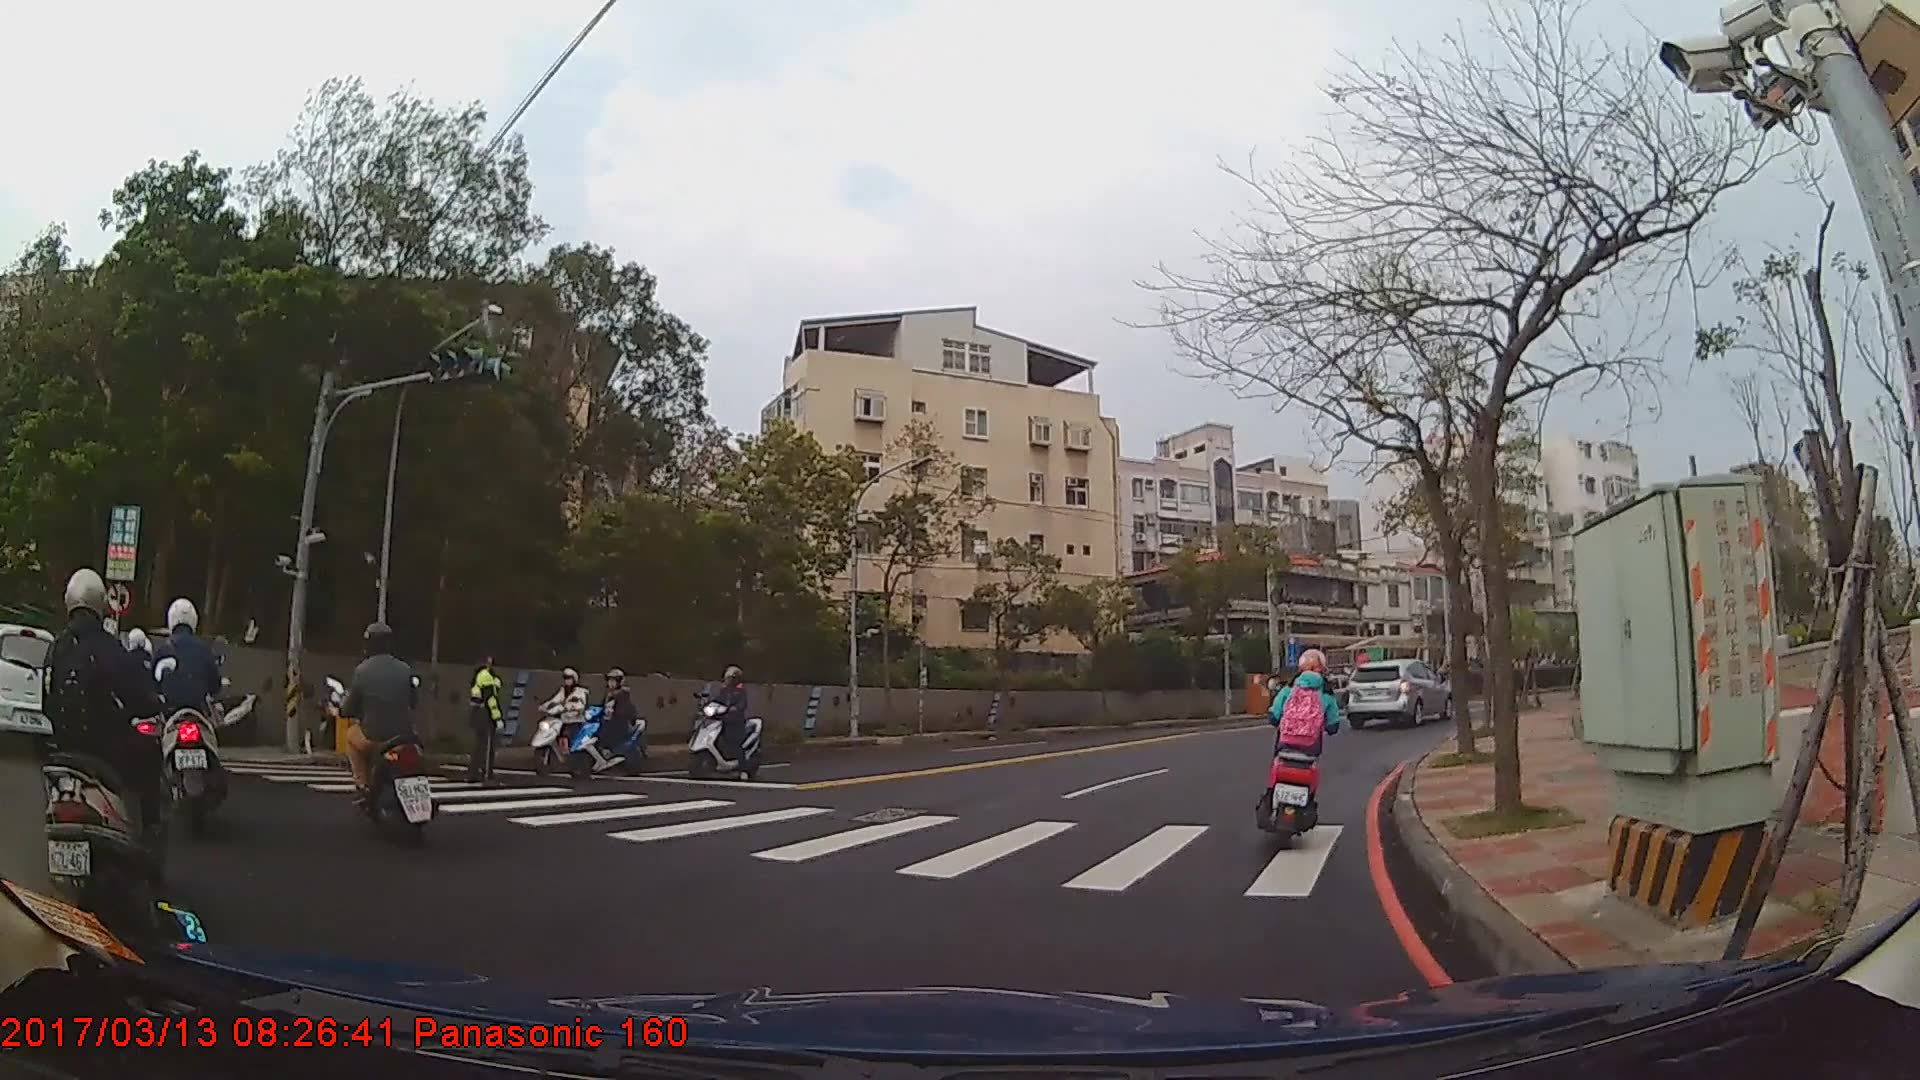pedestrian: (461, 651, 506, 791)
rider: (40, 568, 176, 933), (328, 623, 438, 850), (144, 599, 228, 839), (1261, 647, 1343, 843), (687, 671, 764, 784), (569, 670, 644, 781), (530, 672, 601, 777)
vehicle: (1344, 658, 1454, 729)
